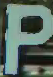Parking: (1, 1, 51, 76)
